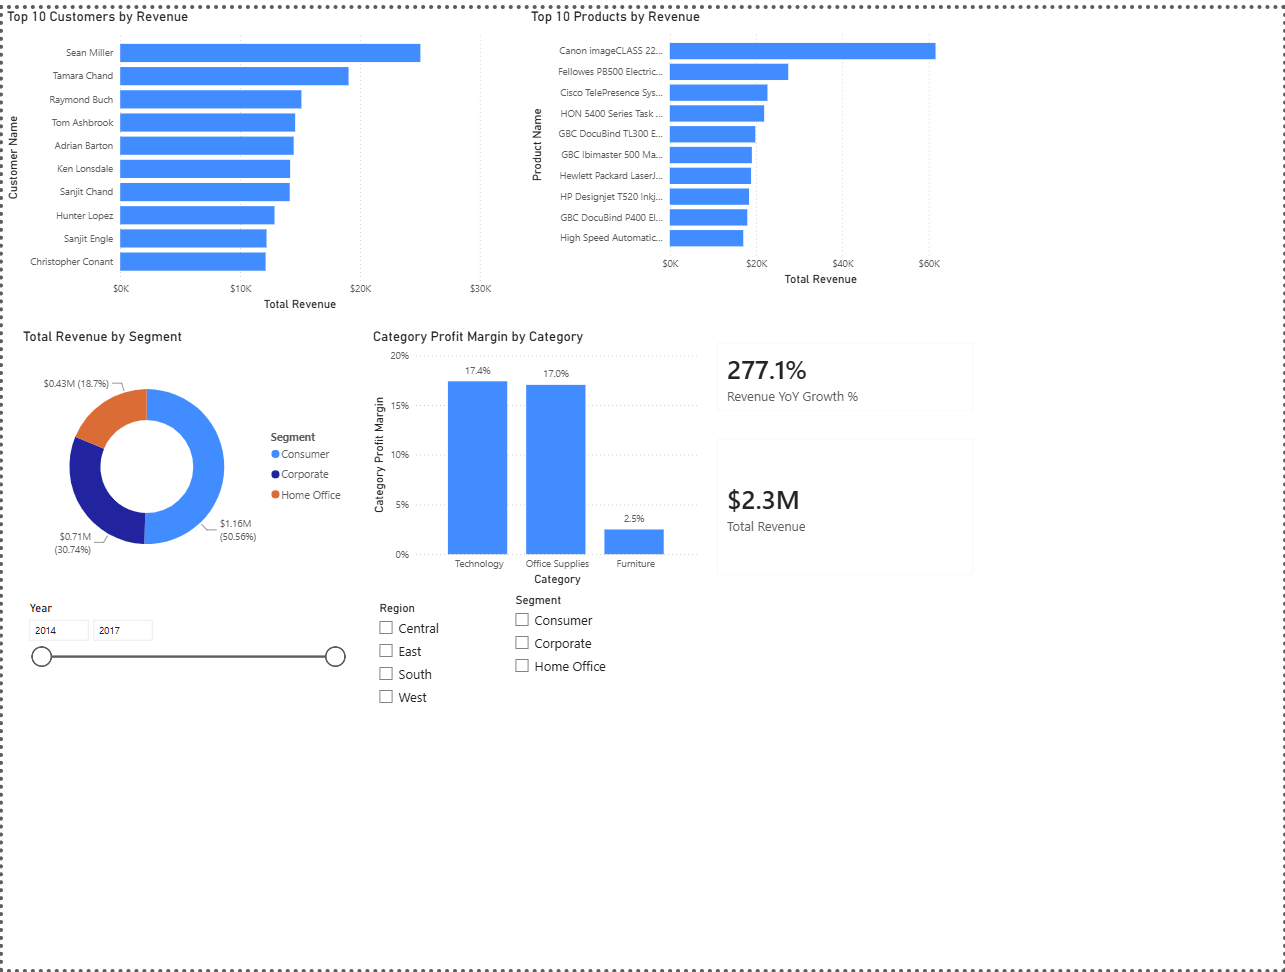

This screenshot's page, from the dashboard's own definition file:
{"tool":"powerbi","page":{"name":"Deep Dive Analysis","canvas":[1600,1200],"ordinal":1},"visuals":[{"type":"clusteredBarChart","title":"Top 10 Customers by Revenue","fields":{"Category":["Sample - Superstore.Customer Name"],"Y":["Measure Table.Total Revenue"]},"box":[0,0,615,381.7],"z":0},{"type":"clusteredBarChart","title":"Top 10 Products by Revenue","fields":{"Category":["Sample - Superstore.Product Name"],"Y":["Measure Table.Total Revenue"]},"box":[655,0,575,350],"z":1000},{"type":"donutChart","fields":{"Category":["Sample - Superstore.Segment"],"Y":["Measure Table.Total Revenue"]},"box":[20,400,416.7,325],"z":2000},{"type":"clusteredColumnChart","fields":{"Category":["Sample - Superstore.Category"],"Y":["Measure Table.Category Profit Margin"]},"box":[458.3,400,416.7,325],"z":3000},{"type":"slicer","fields":{"Values":["Sample - Superstore.Year"]},"box":[20,735,416.7,151.7],"z":5000},{"type":"slicer","fields":{"Values":["Sample - Superstore.Region"]},"box":[458.3,735,183.3,165],"z":6000},{"type":"slicer","fields":{"Values":["Sample - Superstore.Segment"]},"box":[626.7,725,270,140],"z":7000},{"type":"cardVisual","fields":{"Data":["Measure Table.Revenue YoY Growth %"]},"box":[875,400,355,120],"z":7001},{"type":"cardVisual","fields":{"Data":["Measure Table.Total Revenue"]},"box":[875,520,355,205],"z":7002},{"type":"cardVisual","fields":{"Data":["Measure Table.Revenue Previous Year"]},"box":[896.7,715,248.3,150],"z":7003}]}

Visuals, with their boxes in screenshot pixels (x1, y1, x2, y2), scaled from the page's 1600x1200 canvas onto the 1285x972 screenshot:
"Top 10 Customers by Revenue" clusteredBarChart: [left=0, top=0, right=494, bottom=309]
"Top 10 Products by Revenue" clusteredBarChart: [left=526, top=0, right=988, bottom=284]
donutChart - Sample - Superstore.Segment x Measure Table.Total Revenue: [left=16, top=324, right=351, bottom=587]
clusteredColumnChart - Sample - Superstore.Category x Measure Table.Category Profit Margin: [left=368, top=324, right=703, bottom=587]
slicer - Sample - Superstore.Year: [left=16, top=595, right=351, bottom=718]
slicer - Sample - Superstore.Region: [left=368, top=595, right=515, bottom=729]
slicer - Sample - Superstore.Segment: [left=503, top=587, right=720, bottom=701]
cardVisual - Measure Table.Revenue YoY Growth %: [left=703, top=324, right=988, bottom=421]
cardVisual - Measure Table.Total Revenue: [left=703, top=421, right=988, bottom=587]
cardVisual - Measure Table.Revenue Previous Year: [left=720, top=579, right=920, bottom=701]
